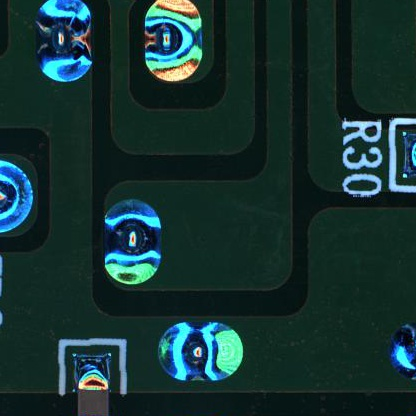spot: (147, 317, 272, 388), (94, 186, 167, 298)
